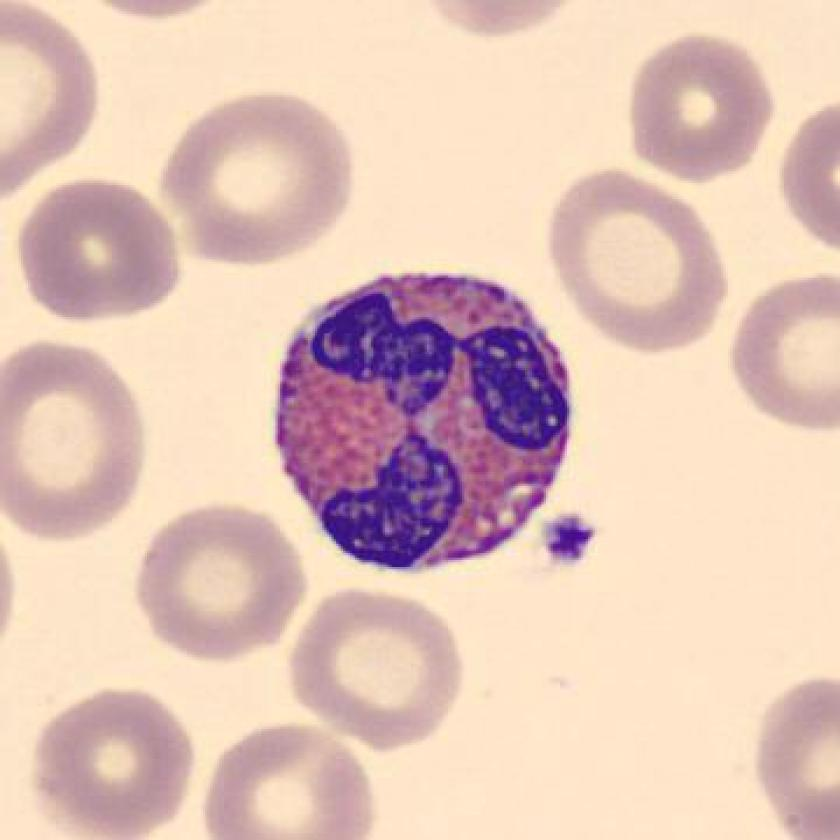eosinophil: (258, 260, 587, 577)
